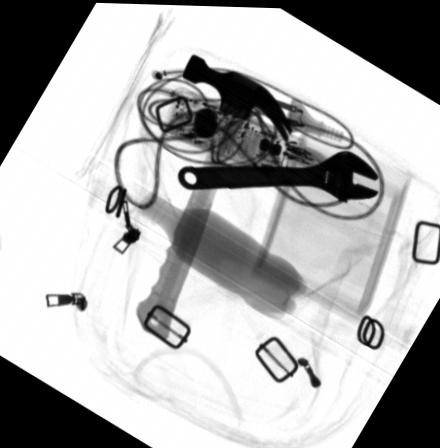Hammer: (136, 52, 293, 339)
Wrench: (177, 148, 378, 199)
